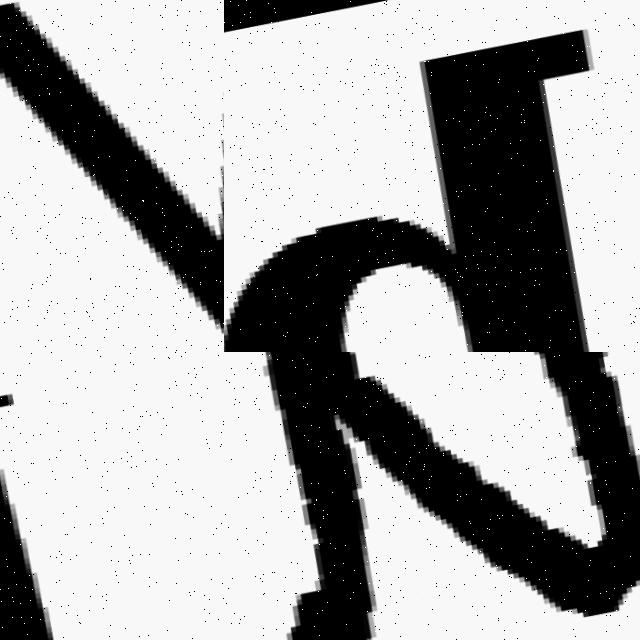A: (224, 352, 640, 640)
B: (224, 27, 591, 352)
K: (0, 363, 161, 640)
Y: (0, 0, 224, 352)
